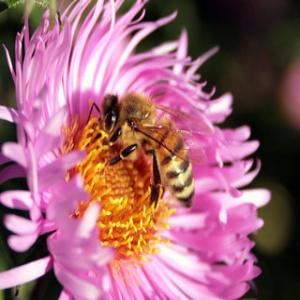bee: (84, 89, 197, 211)
